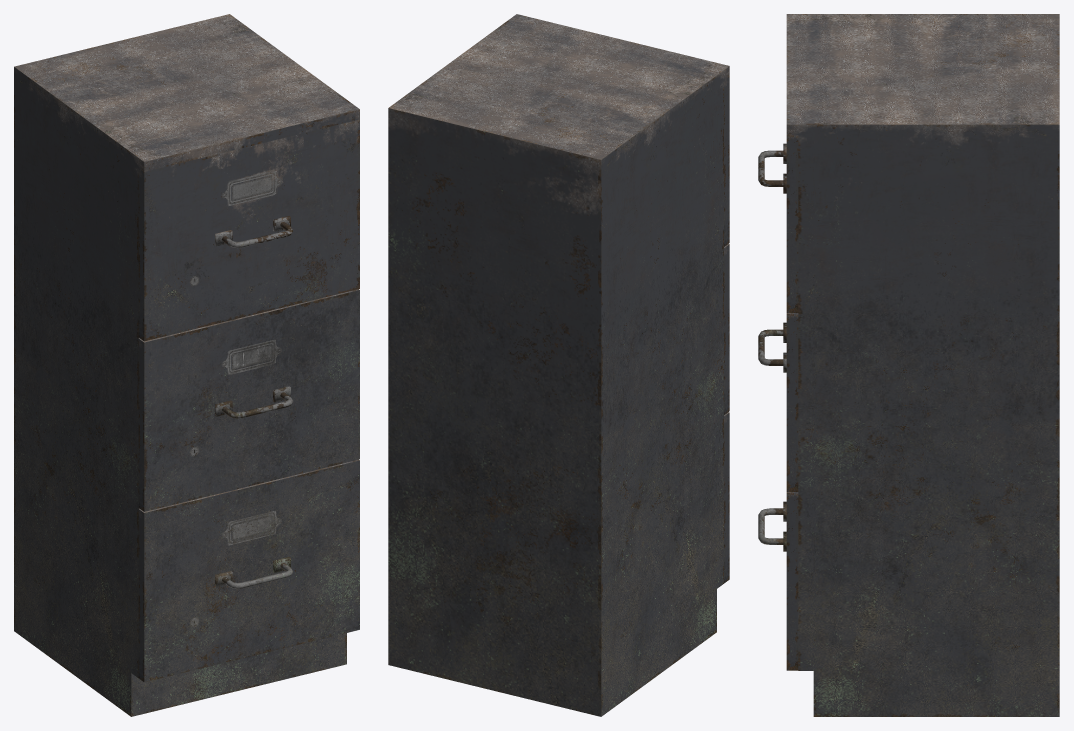
The model's file is ArchiveDrawers.FBX.
The picture shows the model from 3 angles, left to right: view 1: azimuth 30°, elevation 25°; view 2: azimuth 150°, elevation 25°; view 3: azimuth 270°, elevation 25°; orthographic projection. The views are drawn at different scales.
Visible parts, largest first — view 1: ArchiveDrawers, DrawerB, DrawerC, DrawerA; view 2: ArchiveDrawers, DrawerB, DrawerC, DrawerA; view 3: ArchiveDrawers, DrawerB, DrawerC, DrawerA.
Part boxes in pixels (<box>): ArchiveDrawers: <box>14,14,359,716</box>; DrawerB: <box>138,289,359,511</box>; DrawerC: <box>138,459,359,682</box>; DrawerA: <box>138,119,359,341</box>; ArchiveDrawers: <box>388,14,729,716</box>; DrawerB: <box>724,244,729,414</box>; DrawerC: <box>724,412,729,583</box>; DrawerA: <box>724,76,729,246</box>; ArchiveDrawers: <box>786,14,1059,716</box>; DrawerB: <box>758,313,798,491</box>; DrawerC: <box>758,492,798,670</box>; DrawerA: <box>758,135,798,312</box>.
Bounding box in the file's own units: 40 × 100 × 46.13.
